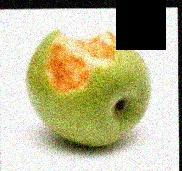rotten apple: (23, 22, 159, 148)
